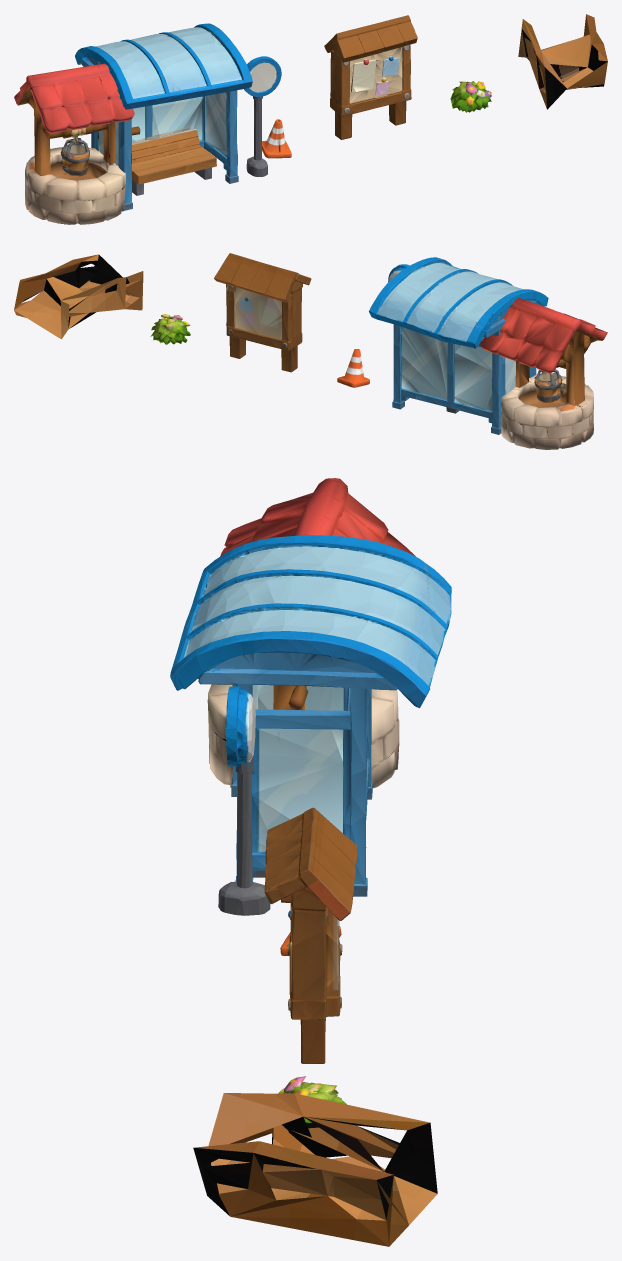
The model's file is props4.glb.
3 renders of one model, top to bottom at view 1: azimuth 30°, elevation 25°; view 2: azimuth 150°, elevation 25°; view 3: azimuth 270°, elevation 25°, orthographic. The views are drawn at different scales.
Visible parts, largest first — view 1: busstop, well, notice, bridge, flowers, cone; view 2: busstop, well, notice, bridge, flowers, cone; view 3: busstop, bridge, notice, well.
Part boxes in pixels (x1,y1,x2,y2): busstop: (75, 23, 281, 210); well: (14, 63, 140, 224); notice: (324, 15, 417, 139); bridge: (518, 14, 607, 109); flowers: (450, 81, 491, 112); cone: (262, 119, 291, 158); busstop: (369, 257, 548, 434); well: (480, 298, 607, 449); notice: (214, 253, 311, 372); bridge: (14, 254, 143, 339); flowers: (150, 314, 190, 344); cone: (337, 349, 369, 387); busstop: (170, 535, 451, 915); bridge: (193, 1093, 437, 1246); notice: (264, 807, 357, 1063); well: (207, 478, 415, 787).
Bounding box in the file's own units: 12.03 × 2.71 × 2.66.
6 materials, 6 textured.
